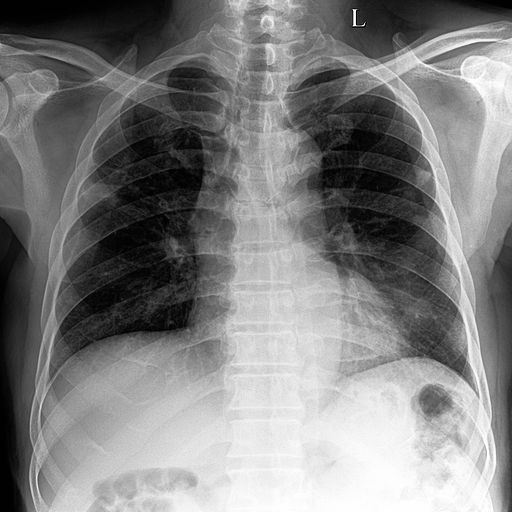Cardiomegaly: (357, 263, 485, 383), (50, 295, 194, 360)
ILD: (81, 167, 131, 209)
Lung Opacity: (401, 151, 440, 193)
Pleural thickening: (75, 172, 129, 214), (406, 160, 437, 188)
